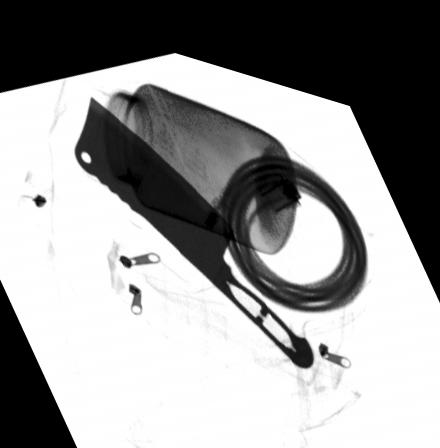Knife: (70, 88, 318, 351)
